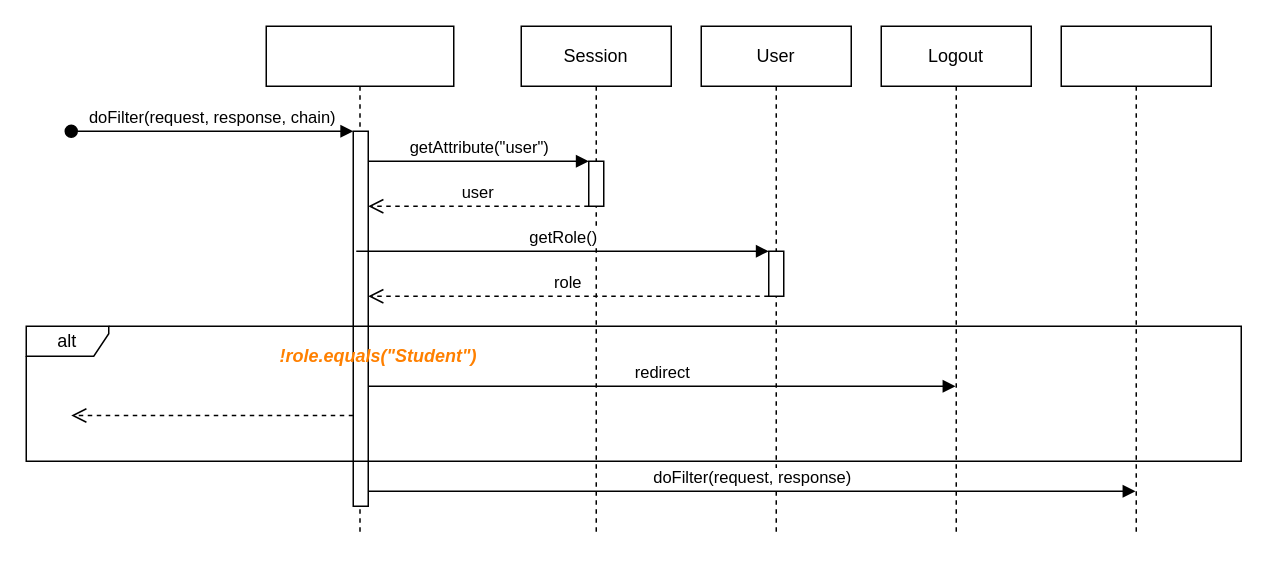
Image size: 1268x563. Some labels were removed from this diagram. Each missing label, with the box of its shape:
Chain: (1060, 25, 1211, 536)
CredentialsChecker: (265, 25, 454, 536)
